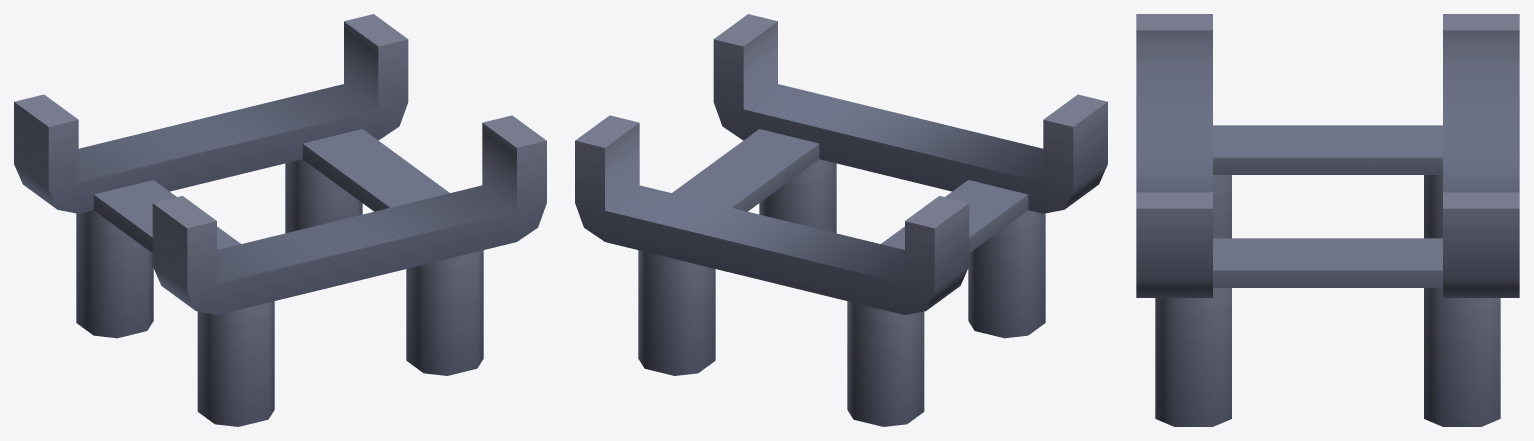
Rendered from support-four-top-double.glb.
3 views of the same model, side by side, from view 1: azimuth 30°, elevation 25°; view 2: azimuth 150°, elevation 25°; view 3: azimuth 270°, elevation 25° (orthographic). The views are drawn at different scales.
Visible parts, largest first — view 1: support-four-top-double; view 2: support-four-top-double; view 3: support-four-top-double.
Boxes of the visible parts, left/top/right/bottom form: support-four-top-double: left=14, top=14, right=546, bottom=426; support-four-top-double: left=575, top=14, right=1107, bottom=426; support-four-top-double: left=1136, top=14, right=1519, bottom=426.
Bounding box in the file's own units: 1.2 × 0.7 × 1.
1 material, 1 textured.
